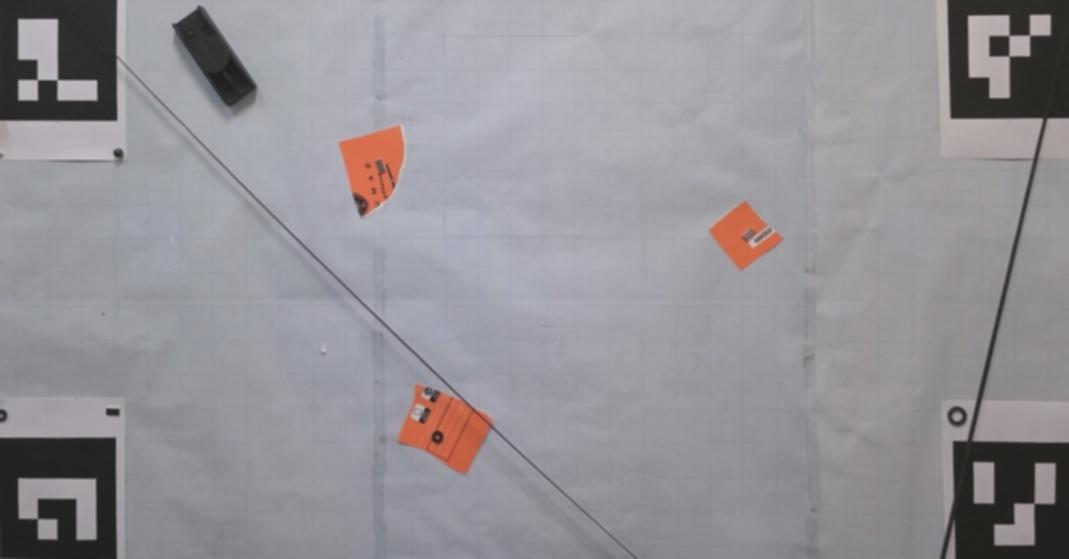obstacle: (171, 4, 257, 111), (400, 383, 493, 474), (340, 124, 406, 219), (708, 201, 784, 271)
